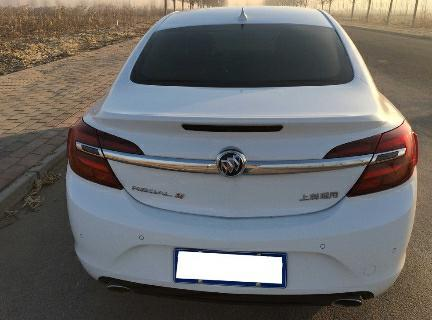别克-GL8: (60, 6, 425, 306)
